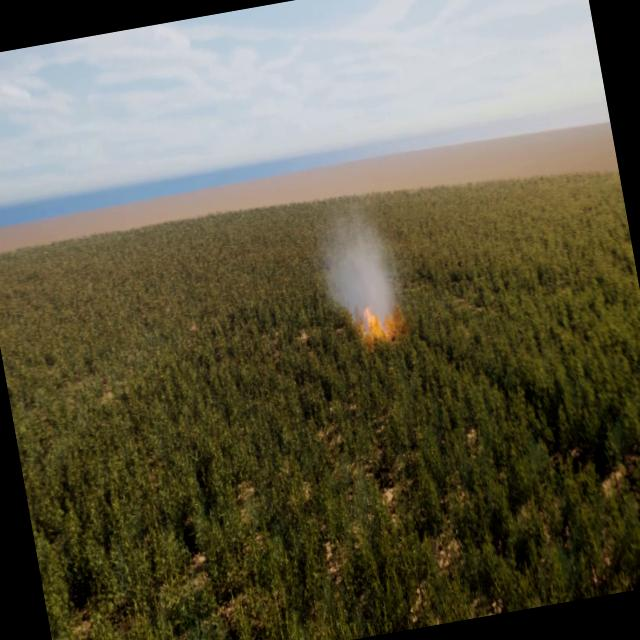fire: (359, 299, 401, 339)
smoke: (306, 198, 414, 338)
